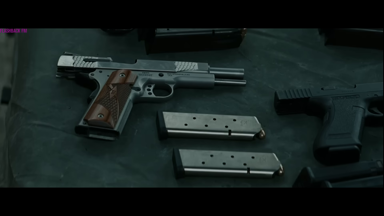firearm: (50, 49, 249, 148), (269, 79, 383, 171), (152, 110, 293, 183)
